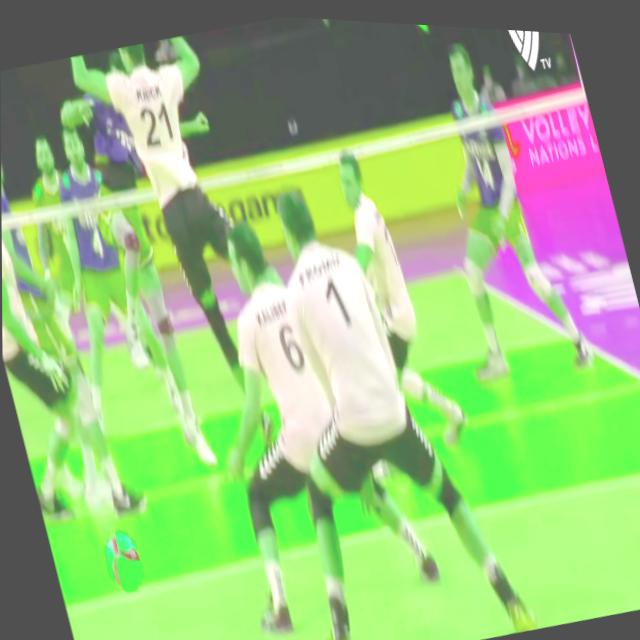player: (202, 142, 540, 640), (61, 15, 337, 478), (162, 186, 441, 633), (393, 19, 596, 388), (23, 102, 202, 448), (1, 148, 148, 534), (309, 134, 476, 459), (1, 124, 124, 520)
